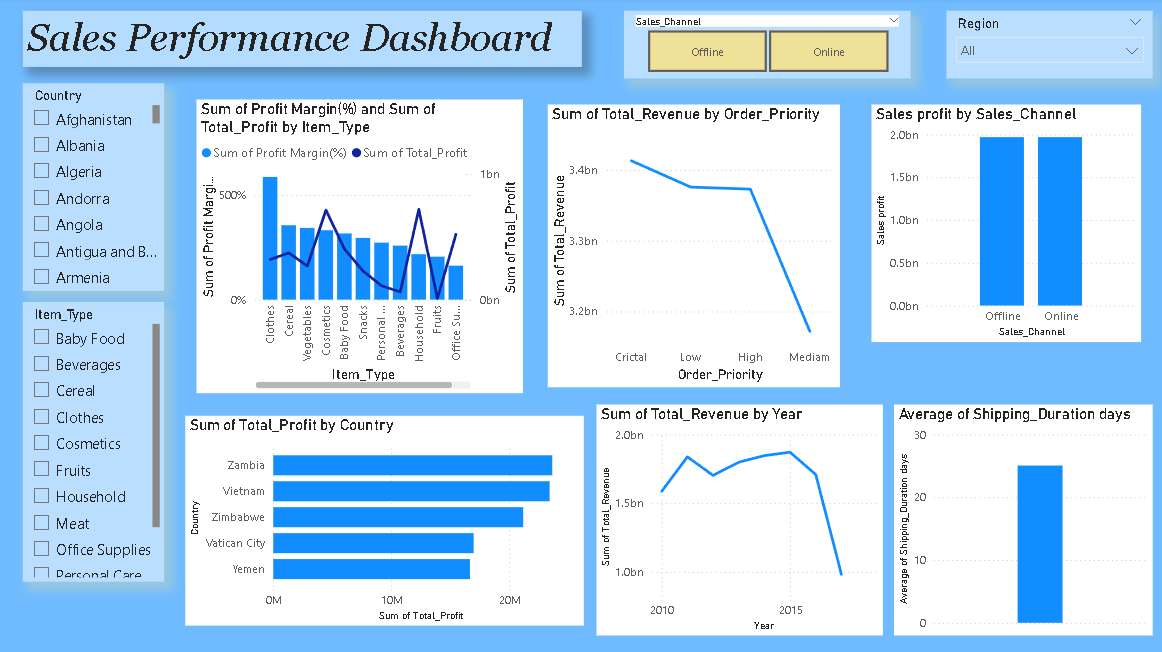

The page's visual inventory and layout, read from the dashboard file:
{"tool":"powerbi","page":{"name":"Page 2","canvas":[1280,720],"ordinal":1},"visuals":[{"type":"slicer","fields":{"Values":["sales sales_new.Item_Type"]},"box":[26.1,334.8,155.1,307.4],"z":0},{"type":"textbox","box":[26.1,15.1,613.4,61.7],"z":1000},{"type":"slicer","fields":{"Values":["sales sales_new.Sales_Channel"]},"box":[686.1,15.1,314.2,74.1],"z":2000},{"type":"slicer","fields":{"Values":["sales sales_new.Country"]},"box":[26.1,94.7,155.1,227.8],"z":3000},{"type":"slicer","fields":{"Values":["sales sales_new.Region"]},"box":[1040.1,15.1,226.4,74.1],"z":4000},{"type":"clusteredBarChart","fields":{"Category":["sales sales_new.Country"],"Y":["Sum(sales sales_new.Total_Profit)"]},"box":[204.5,459.7,437.7,230.5],"z":5000},{"type":"clusteredColumnChart","fields":{"Category":["sales sales_new.Sales_Channel"],"Y":["sales sales_new.Sales profit"]},"box":[957.8,118,296.4,260.7],"z":6000},{"type":"lineChart","fields":{"Category":["sales sales_new.Order_Priority"],"Y":["Sum(sales sales_new.Total_Revenue)"]},"box":[602.4,118,321.1,310.1],"z":7000},{"type":"lineClusteredColumnComboChart","fields":{"Y2":["Sum(sales sales_new.Total_Profit)"],"Y":["Sum(sales sales_new.Profit Margin(%))"],"Category":["sales sales_new.Item_Type"]},"box":[216.8,112.5,358.1,322.5],"z":8000},{"type":"lineChart","fields":{"Category":["sales sales_new.Year"],"Y":["Sum(sales sales_new.Total_Revenue)"]},"box":[655.9,447.3,314.2,253.9],"z":9000},{"type":"clusteredColumnChart","fields":{"Y":["Avg(sales sales_new.Shipping_Duration  days)"]},"box":[982.5,447.3,284,253.9],"z":10000}]}

Visuals, with their boxes in screenshot pixels (x1, y1, x2, y2), scaled from the page's 1280x720 canvas onto the 1162x652 screenshot:
slicer - sales sales_new.Item_Type: locate(24, 303, 164, 582)
textbox: locate(24, 14, 581, 70)
slicer - sales sales_new.Sales_Channel: locate(623, 14, 908, 81)
slicer - sales sales_new.Country: locate(24, 86, 164, 292)
slicer - sales sales_new.Region: locate(944, 14, 1150, 81)
clusteredBarChart - sales sales_new.Country x Sum(sales sales_new.Total_Profit): locate(186, 416, 583, 625)
clusteredColumnChart - sales sales_new.Sales_Channel x sales sales_new.Sales profit: locate(870, 107, 1139, 343)
lineChart - sales sales_new.Order_Priority x Sum(sales sales_new.Total_Revenue): locate(547, 107, 838, 388)
lineClusteredColumnComboChart - Sum(sales sales_new.Total_Profit) x Sum(sales sales_new.Profit Margin(%)): locate(197, 102, 522, 394)
lineChart - sales sales_new.Year x Sum(sales sales_new.Total_Revenue): locate(595, 405, 881, 635)
clusteredColumnChart - Avg(sales sales_new.Shipping_Duration  days): locate(892, 405, 1150, 635)
